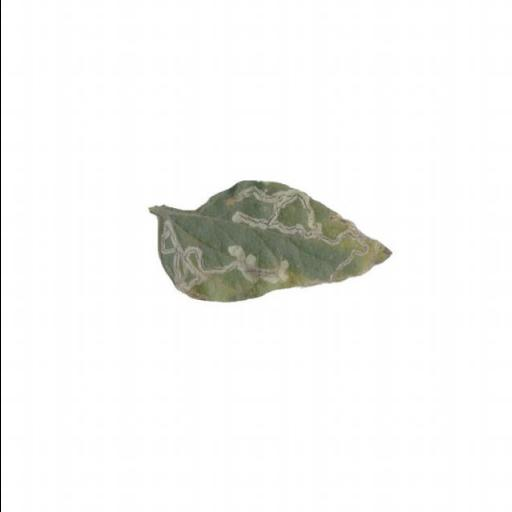Leaf Miner: (148, 180, 394, 306)
